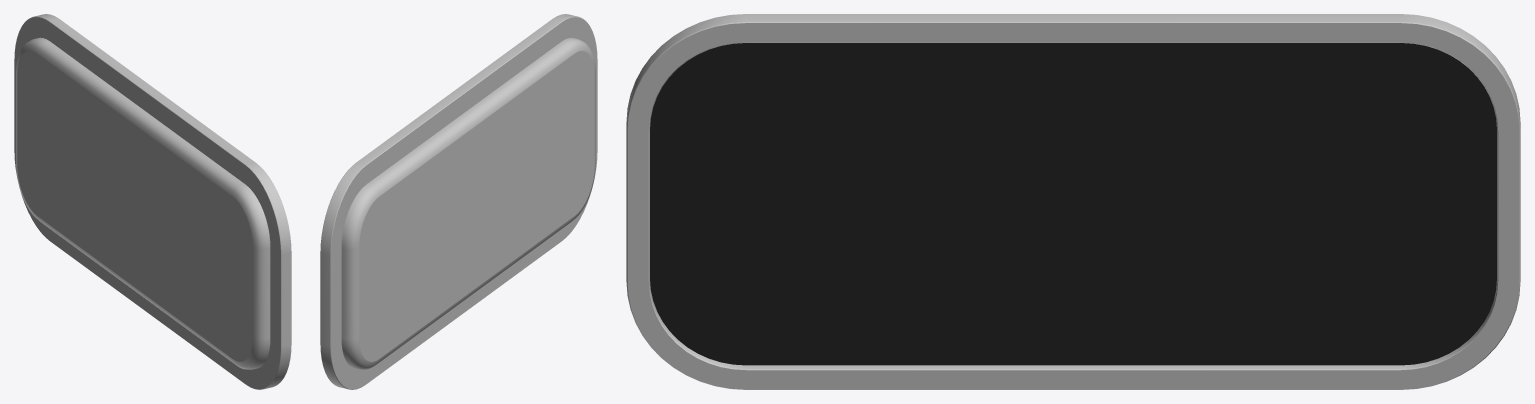
File: instructionsDisplay.glb
The picture shows the model from 3 angles, left to right: view 1: azimuth 30°, elevation 25°; view 2: azimuth 150°, elevation 25°; view 3: azimuth 270°, elevation 25°; orthographic projection. The views are drawn at different scales.
Parts seen in each view (by area): view 1: display; view 2: display; view 3: display.
Part boxes in pixels (<box>): display: <box>14,14,291,389</box>; display: <box>320,14,597,389</box>; display: <box>626,14,1520,389</box>.
Size of what is drawn, in the model's own units: 0.2213 by 2.01 by 4.41.
1 material, 1 textured.
